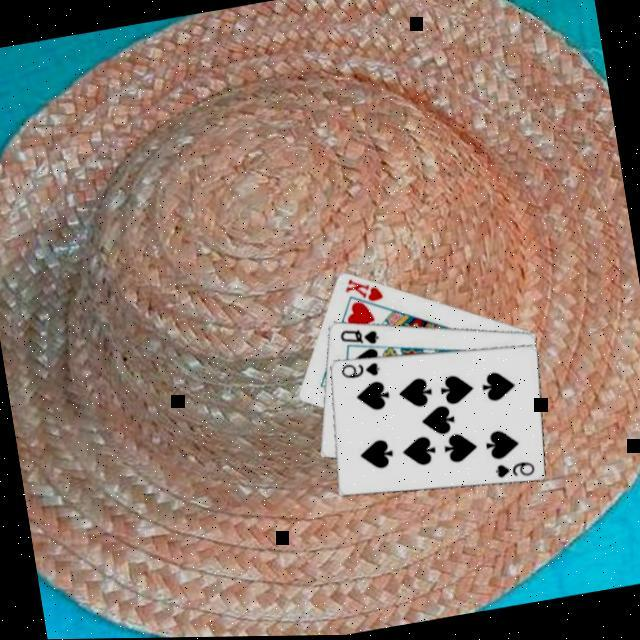9S: (336, 354, 384, 383), (491, 455, 539, 484)
KH: (341, 269, 386, 308)
QS: (337, 320, 382, 351)
